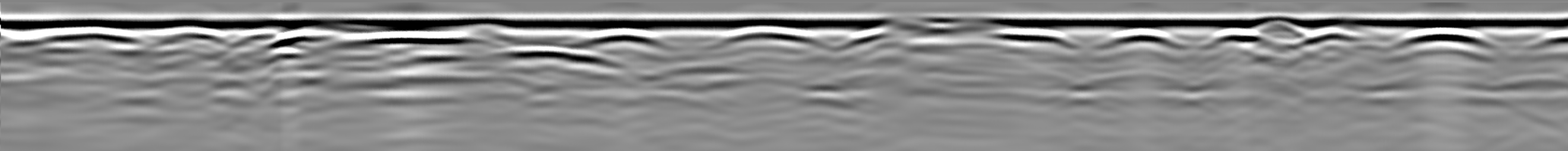pipe: (873, 13, 1007, 40), (1242, 16, 1317, 38)
steel: (340, 31, 494, 50), (28, 29, 146, 52), (714, 29, 830, 50), (1396, 29, 1504, 51), (550, 32, 672, 50), (986, 27, 1075, 51), (1097, 28, 1185, 50), (269, 31, 354, 49), (154, 29, 229, 47), (1206, 30, 1262, 48)
